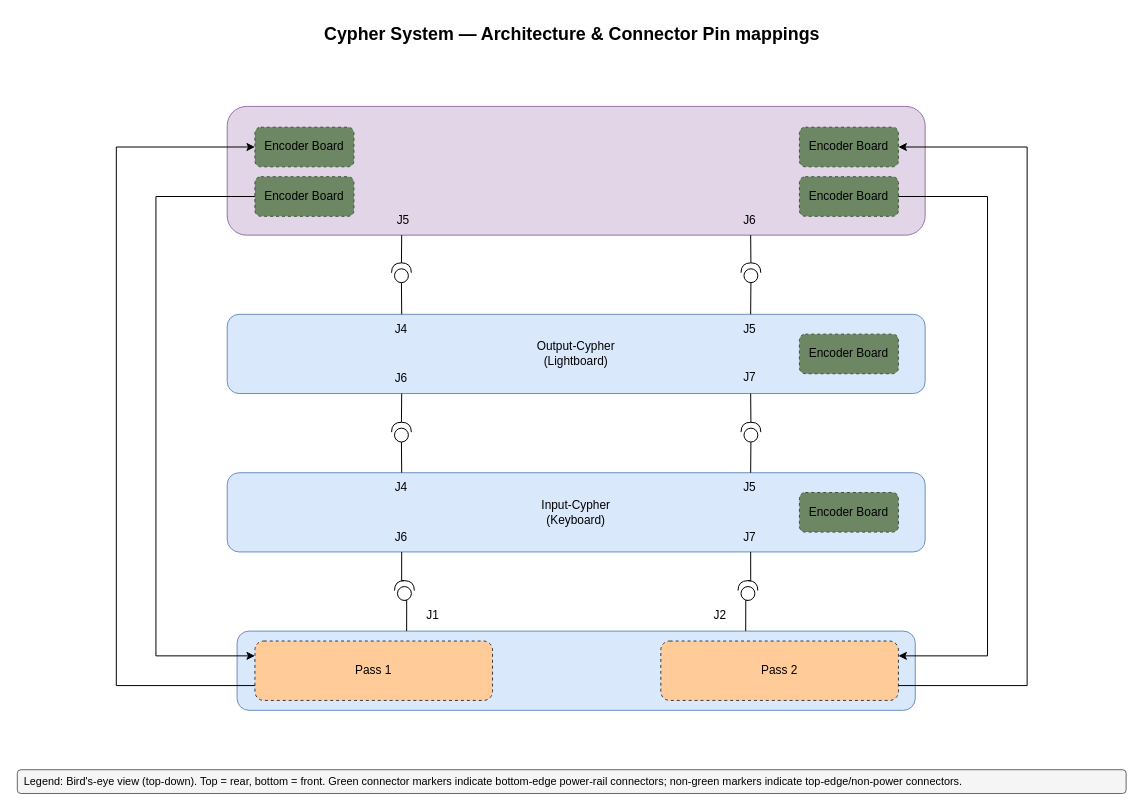
Some shapes in this 1143 by 811 pixel diagram are drawn without their labels. Each missing label, with the box of its shape:
Cypher Board (REFLECTOR + STATOR + HID + PLUGBOARD): (226, 105, 925, 235)
Plugboard: (236, 630, 915, 710)
